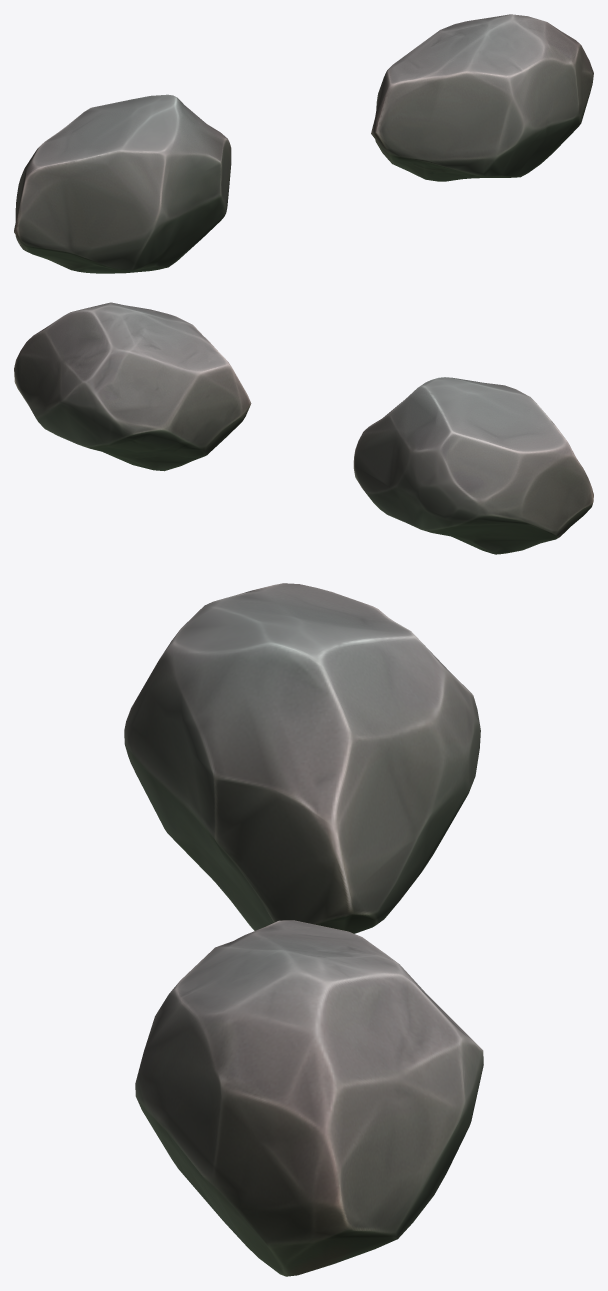
Rendered from rock_A.fbx.
3 views of the same model, one above another, from view 1: azimuth 30°, elevation 25°; view 2: azimuth 150°, elevation 25°; view 3: azimuth 270°, elevation 25° (orthographic). The views are drawn at different scales.
Parts seen in each view (by area): view 1: Small_4_SMall_0, Small_5_SMall_0; view 2: Small_4_SMall_0, Small_5_SMall_0; view 3: Small_4_SMall_0, Small_5_SMall_0.
Part boxes in pixels (<box>): Small_4_SMall_0: <box>14,94,231,273</box>; Small_5_SMall_0: <box>371,14,593,181</box>; Small_4_SMall_0: <box>353,377,593,554</box>; Small_5_SMall_0: <box>14,302,251,471</box>; Small_4_SMall_0: <box>124,583,480,933</box>; Small_5_SMall_0: <box>135,920,483,1276</box>.
Size of the model in its own units: 484 by 128 by 134.
Materials: 1 (1 with a texture image).
